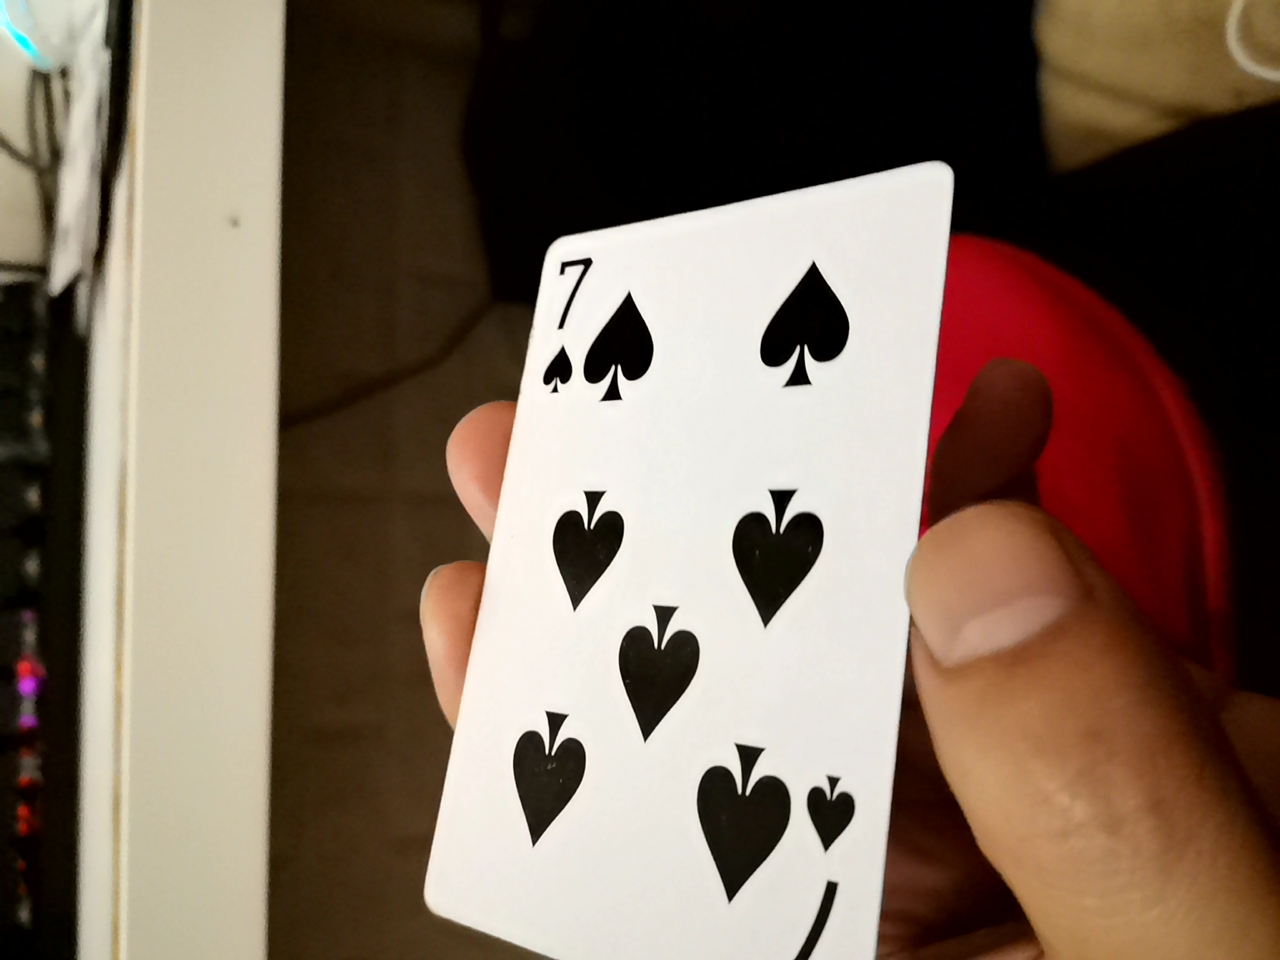ht 7: (439, 174, 954, 960)
